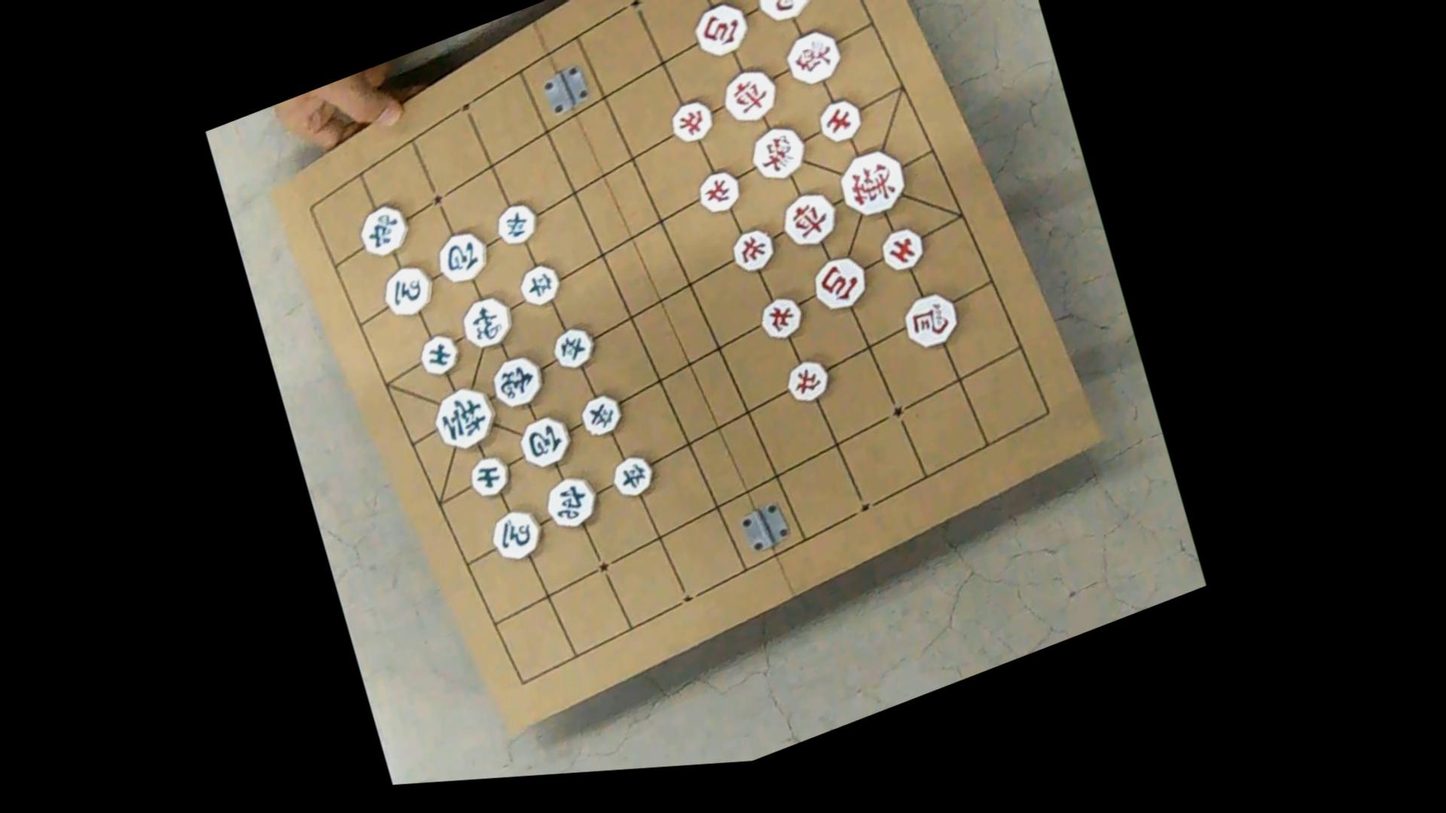cha_green: (540, 471, 602, 536), (352, 199, 413, 262)
cha_red: (715, 63, 782, 129), (775, 187, 840, 253)
jol_green: (548, 322, 599, 374), (490, 198, 540, 249), (607, 452, 657, 502), (575, 390, 625, 440), (514, 260, 563, 311)
jol_red: (664, 94, 717, 148), (780, 355, 832, 408), (726, 224, 778, 277), (691, 166, 743, 218), (755, 292, 807, 344)
ma_green: (485, 503, 546, 567), (376, 260, 438, 322)
ma_red: (897, 287, 962, 354), (749, 0, 816, 29)
po_green: (512, 410, 576, 475), (431, 225, 492, 288)
po_red: (807, 250, 872, 318), (687, 0, 752, 63)
sa_green: (463, 451, 514, 503), (413, 328, 462, 381)
sa_red: (812, 93, 865, 148), (875, 222, 928, 276)
sang_green: (484, 349, 548, 416), (455, 291, 517, 355)
sang_red: (745, 120, 810, 187), (780, 24, 845, 91)
wang_green: (426, 380, 501, 457)
wang_red: (830, 141, 912, 224)
